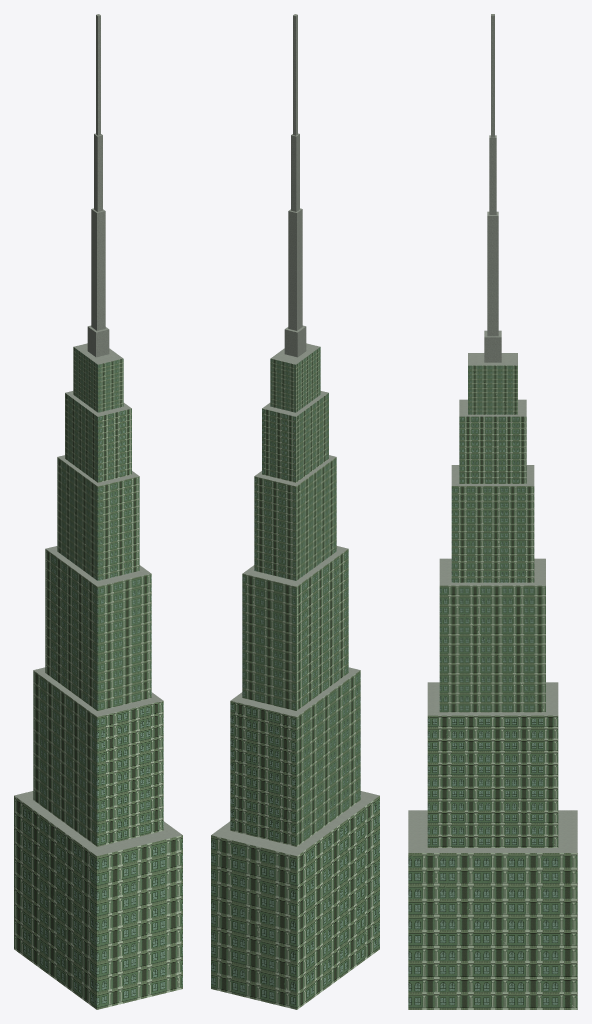
The model's file is BGN_TOWER 1.fbx.
3 views of the same model, side by side, from view 1: azimuth 30°, elevation 25°; view 2: azimuth 150°, elevation 25°; view 3: azimuth 270°, elevation 25° (orthographic). The views are drawn at different scales.
Parts seen in each view (by area): view 1: BGN_TOWER 1; view 2: BGN_TOWER 1; view 3: BGN_TOWER 1.
Boxes of the visible parts, x1,y1,x2,y2 form: BGN_TOWER 1: (14, 14, 182, 1009); BGN_TOWER 1: (211, 14, 379, 1009); BGN_TOWER 1: (408, 14, 577, 1009).
Size of the model in its own units: 2922 by 30961 by 4876.
2 materials, 2 textured.
